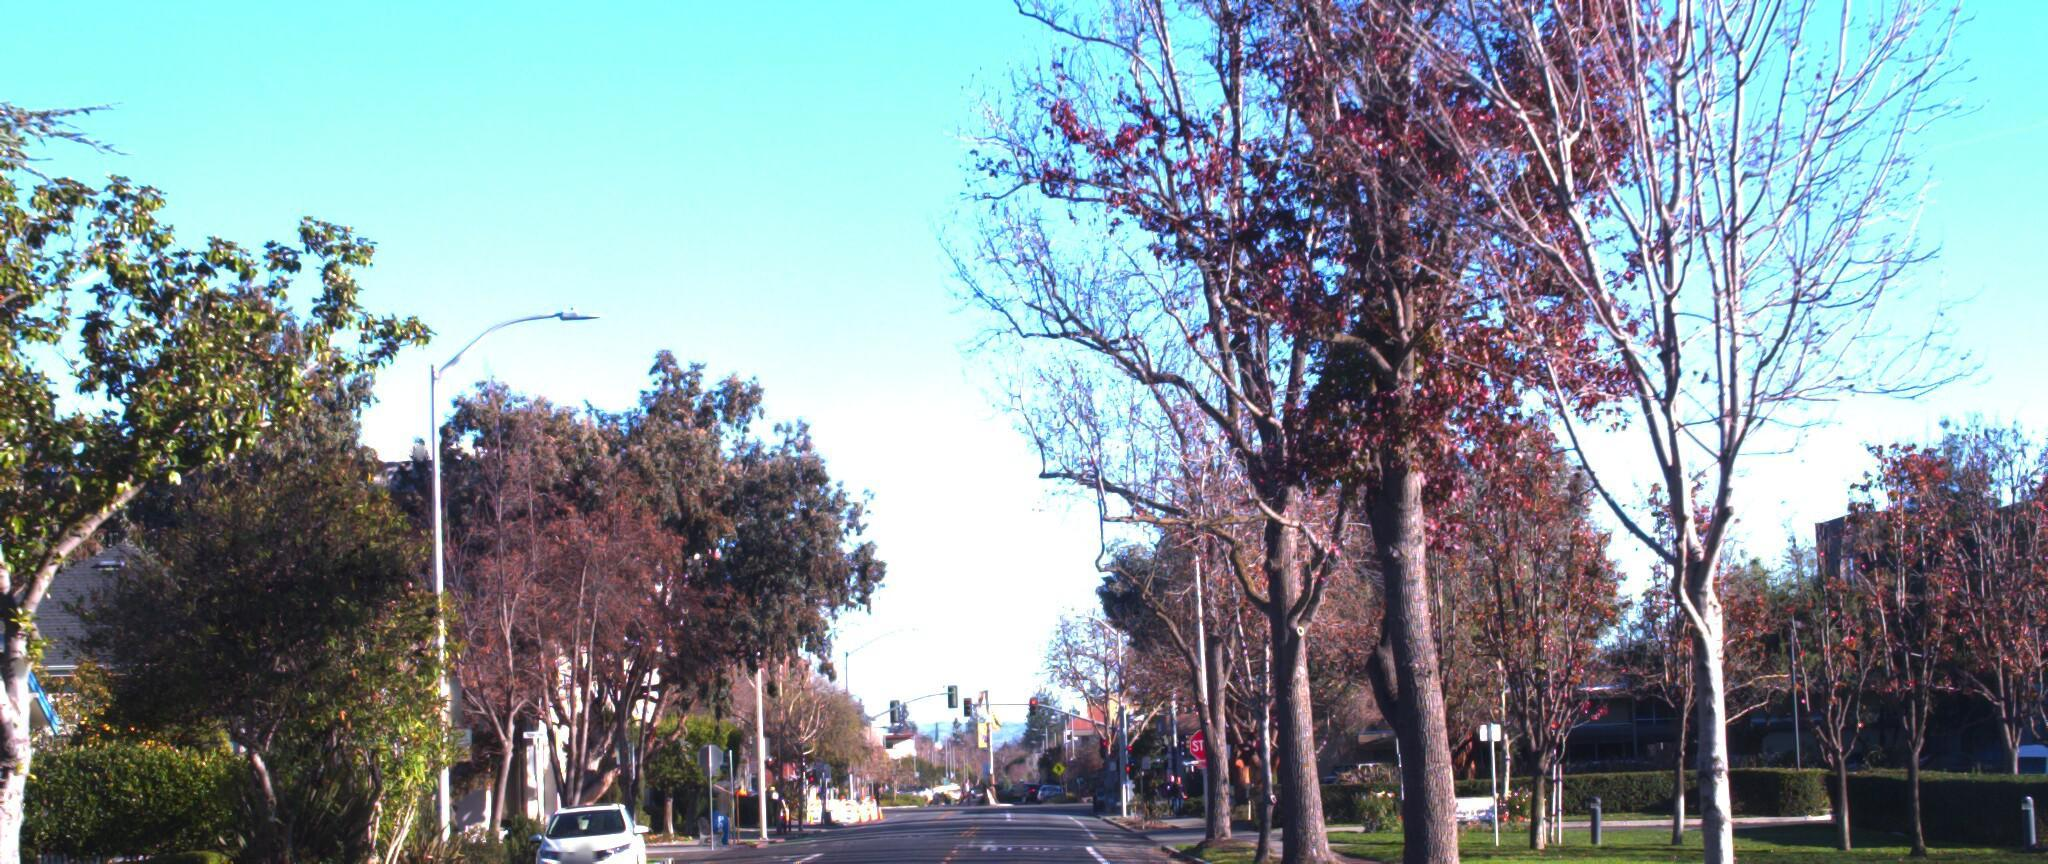car: (522, 784, 643, 864)
